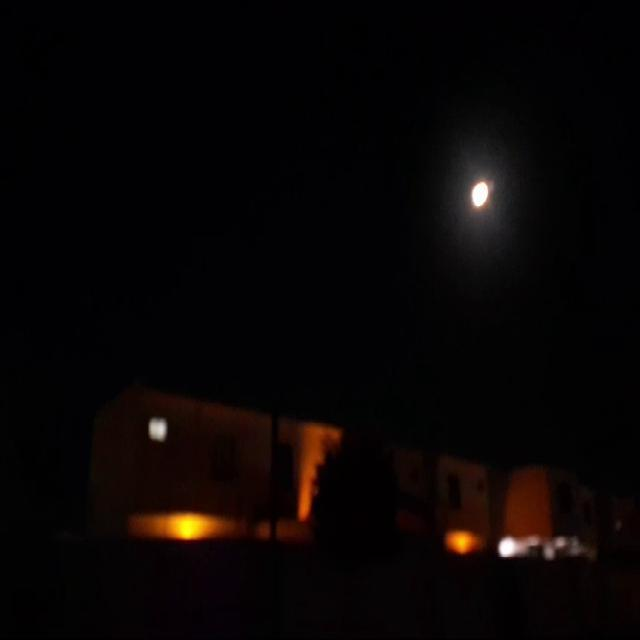moon: (463, 177, 486, 211)
